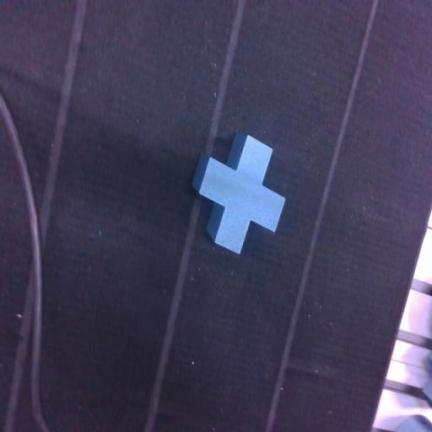cross: (194, 134, 285, 253)
